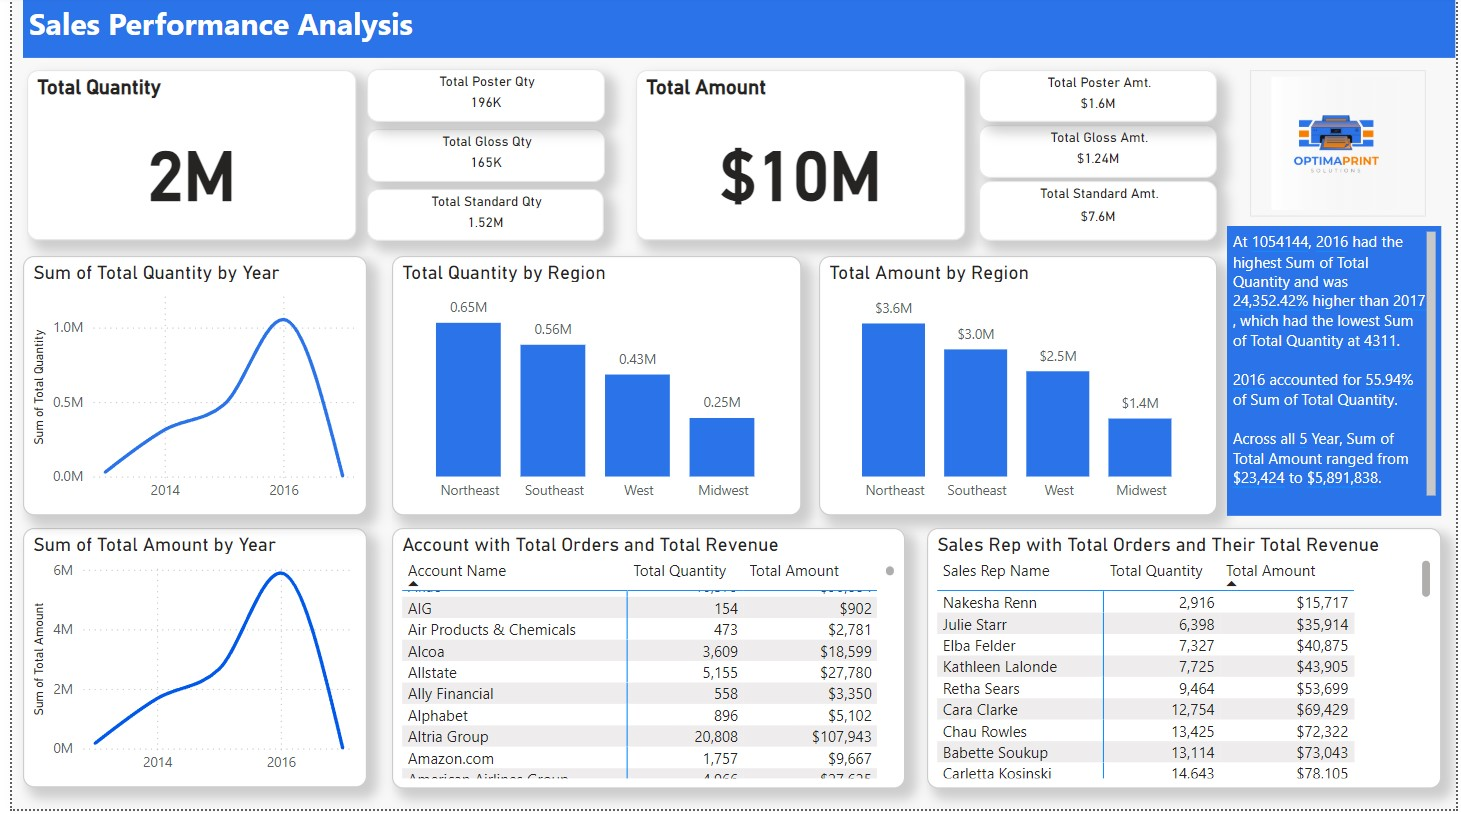

The page's visual inventory and layout, read from the dashboard file:
{"tool":"powerbi","page":{"name":"2.\tSales Performance ","canvas":[1280,720],"ordinal":1},"visuals":[{"type":"textbox","box":[9.7,0,1270.3,54.5],"z":0},{"type":"image","box":[1098.1,65.2,155.6,130.3],"z":1000},{"type":"card","title":"Total Quantity","fields":{"Values":["orders.Total Quantity"]},"box":[13.6,65.2,291.8,150.8],"z":2000},{"type":"card","title":"Total Gloss Qty","fields":{"Values":["orders.gloss_qty"]},"box":[315.1,117.2,211.1,46.7],"z":3000},{"type":"card","title":"Total Poster Qty","fields":{"Values":["orders.poster_qty"]},"box":[315.1,64.2,211.1,46.7],"z":4000},{"type":"card","title":"Total Standard Qty","fields":{"Values":["orders.standard_qty"]},"box":[315.1,170.2,210.1,45.7],"z":5000},{"type":"card","title":"Total Amount","fields":{"Values":["orders.total_amt_usd"]},"box":[553.4,65.2,291.8,150.8],"z":6000},{"type":"card","title":"Total Gloss Amt.","fields":{"Values":["orders.gloss_amt_usd"]},"box":[857.9,113.8,211.1,46.7],"z":7000},{"type":"card","title":"Total Poster Amt.","fields":{"Values":["orders.poster_amt_usd"]},"box":[857.9,65.2,211.1,45.7],"z":8000},{"type":"card","title":"Total Standard Amt.","fields":{"Values":["orders.standard_amt_usd"]},"box":[857.9,163.4,211.1,52.5],"z":9000},{"type":"lineChart","fields":{"Category":["Calendar Table.Year","Calendar Table.Quarter","Calendar Table.Month"],"Y":["orders.Total Amount"]},"box":[9.7,470.8,305.4,229.5],"z":10000},{"type":"lineChart","fields":{"Category":["Calendar Table.Year","Calendar Table.Quarter","Calendar Table.Month"],"Y":["orders.Total Quantity"]},"box":[9.7,229.5,305.4,229.5],"z":11000},{"type":"clusteredColumnChart","title":"Total Quantity by Region","fields":{"Category":["region.name"],"Y":["orders.Total Quantity"]},"box":[336.5,229.5,362.8,229.5],"z":12000},{"type":"clusteredColumnChart","title":"Total Amount by Region","fields":{"Category":["region.name"],"Y":["orders.Total Amount"]},"box":[715.9,229.5,353.1,229.5],"z":13000},{"type":"pivotTable","title":"Account with Total Orders and Total Revenue","fields":{"Values":["orders.Total Quantity","orders.Total Amount"],"Rows":["accounts.name"]},"box":[336.5,470.8,455.2,230.5],"z":14000},{"type":"pivotTable","title":"Sales Rep with Total Orders and Their Total Revenue","fields":{"Values":["orders.Total Quantity","orders.Total Amount"],"Rows":["sales_reps.name"]},"box":[811.3,470.8,455.8,230.5],"z":15000},{"type":"textbox","box":[1077.7,203.3,189.7,256.8],"z":16000}]}

Visuals, with their boxes in screenshot pixels (x1, y1, x2, y2), scaled from the page's 1280x720 canvas onto the 1461x814 screenshot:
textbox: crop(11, 0, 1460, 62)
image: crop(1253, 74, 1431, 221)
"Total Quantity" card: crop(16, 74, 349, 244)
"Total Gloss Qty" card: crop(360, 133, 601, 185)
"Total Poster Qty" card: crop(360, 73, 601, 125)
"Total Standard Qty" card: crop(360, 192, 599, 244)
"Total Amount" card: crop(632, 74, 965, 244)
"Total Gloss Amt." card: crop(979, 129, 1220, 181)
"Total Poster Amt." card: crop(979, 74, 1220, 125)
"Total Standard Amt." card: crop(979, 185, 1220, 244)
lineChart - Calendar Table.Year x Calendar Table.Quarter: crop(11, 532, 360, 792)
lineChart - Calendar Table.Year x Calendar Table.Quarter: crop(11, 259, 360, 519)
"Total Quantity by Region" clusteredColumnChart: crop(384, 259, 798, 519)
"Total Amount by Region" clusteredColumnChart: crop(817, 259, 1220, 519)
"Account with Total Orders and Total Revenue" pivotTable: crop(384, 532, 904, 793)
"Sales Rep with Total Orders and Their Total Revenue" pivotTable: crop(926, 532, 1446, 793)
textbox: crop(1230, 230, 1447, 520)
